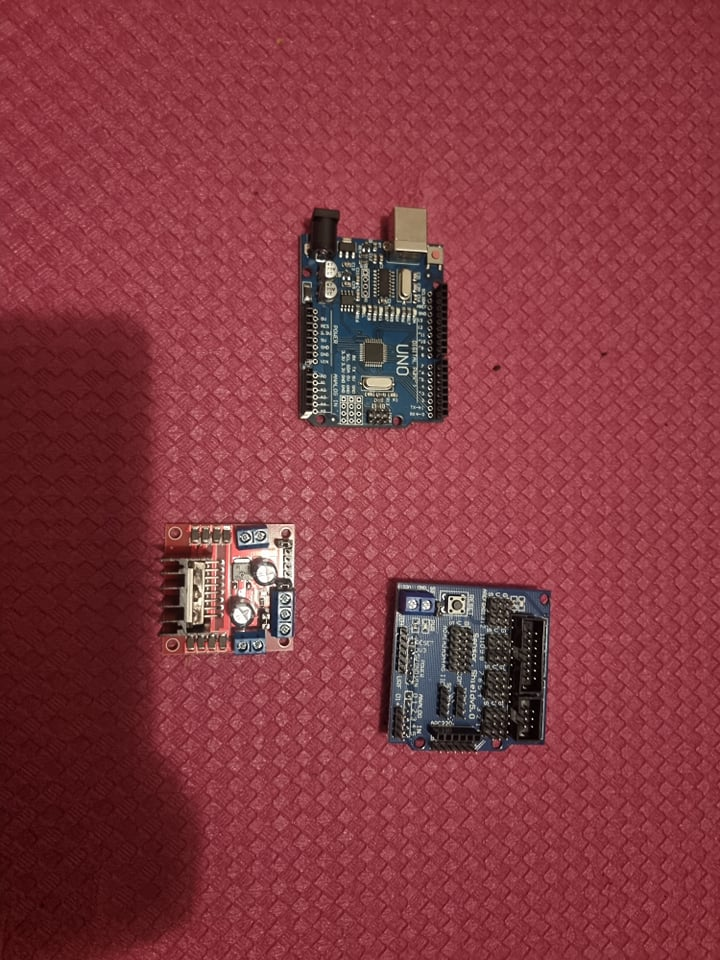5V EXPANSION: (382, 578, 548, 755)
MOTOR: (158, 519, 292, 657)
UNO R3: (295, 202, 454, 431)
